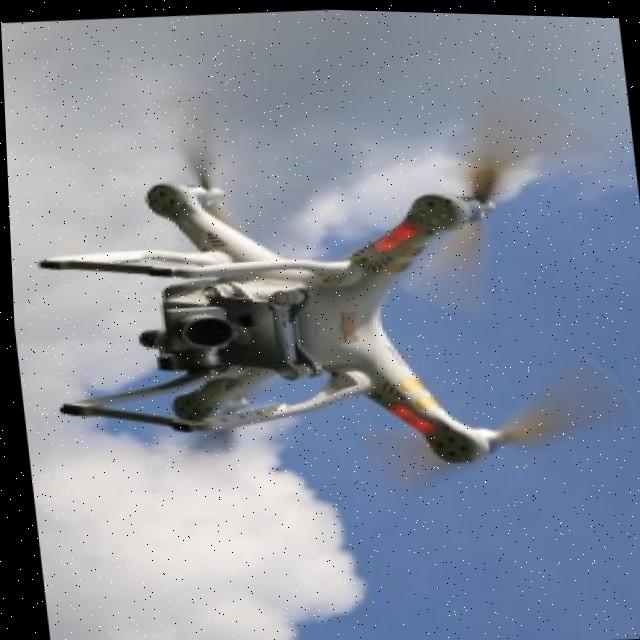drones: (2, 48, 640, 545)
